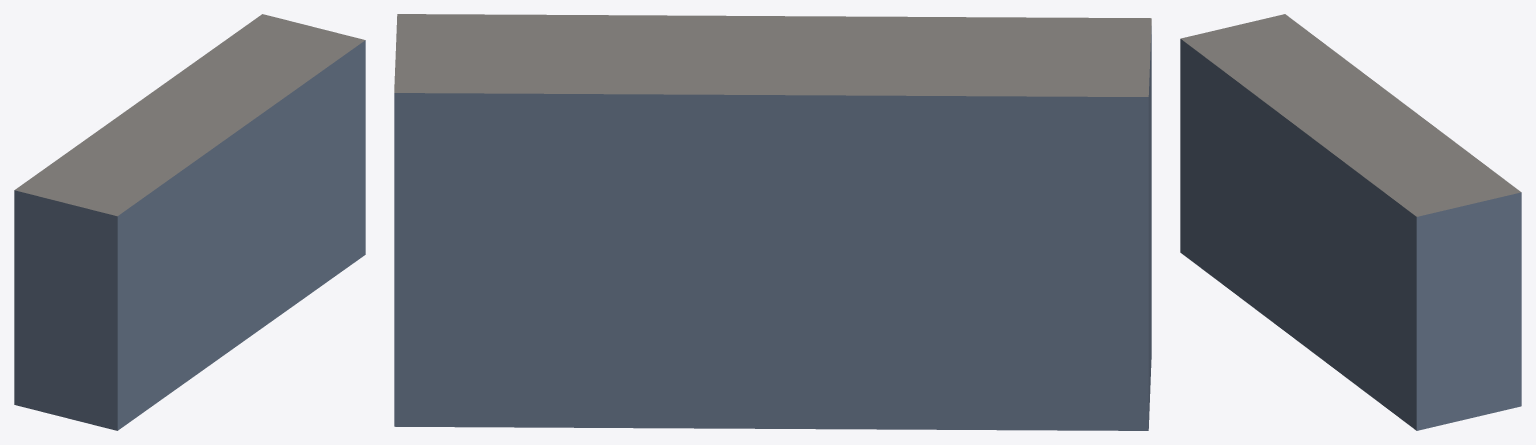
File: nyc-1087142-0.glb
The picture shows the model from 3 angles, left to right: view 1: azimuth 30°, elevation 25°; view 2: azimuth 150°, elevation 25°; view 3: azimuth 270°, elevation 25°; orthographic projection. The views are drawn at different scales.
Parts seen in each view (by area): view 1: nyc-1087142-0; view 2: nyc-1087142-0; view 3: nyc-1087142-0.
Part boxes in pixels (x1,y1,x2,y2): nyc-1087142-0: (14, 14, 365, 430); nyc-1087142-0: (394, 14, 1151, 430); nyc-1087142-0: (1180, 14, 1521, 430).
Size of the model in its own units: 120 by 59.13 by 85.42.
